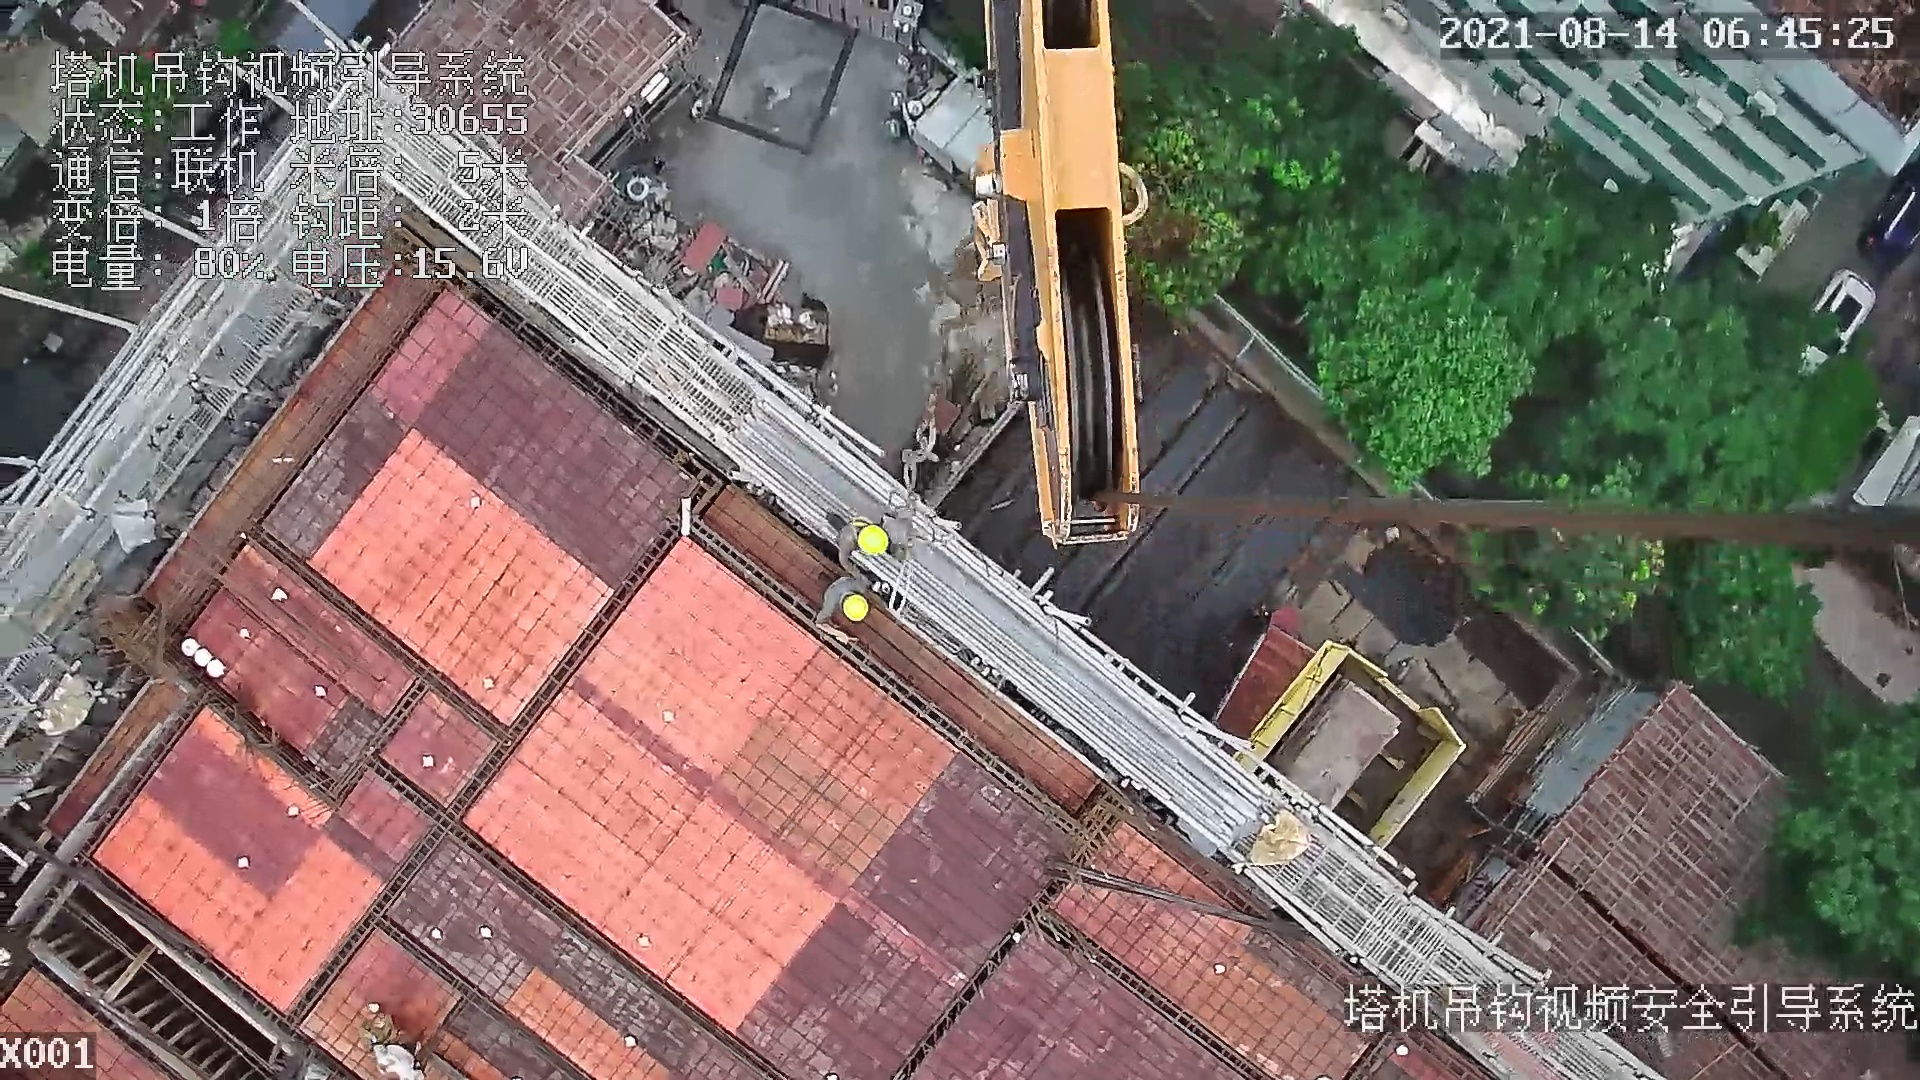board: (1266, 672, 1403, 819)
helmet: (859, 520, 891, 560), (840, 591, 867, 626)
hook: (968, 1, 1156, 556)
person: (805, 569, 904, 646), (828, 506, 908, 580)
